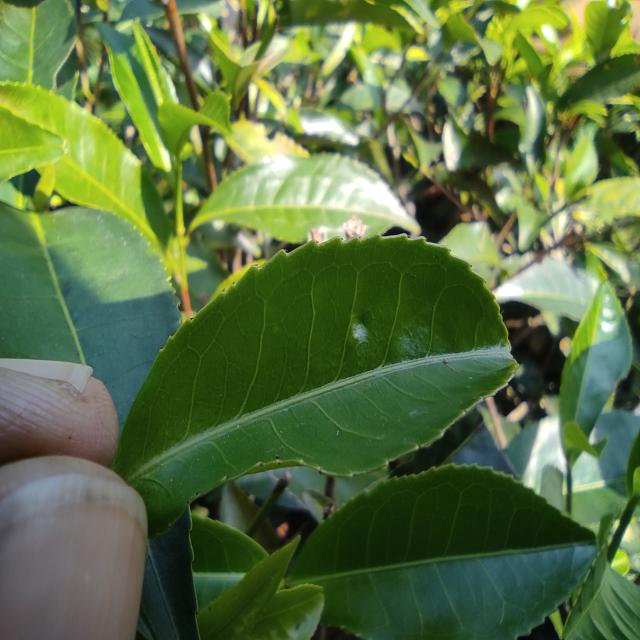Category C(4-7 days): (112, 220, 526, 533)
